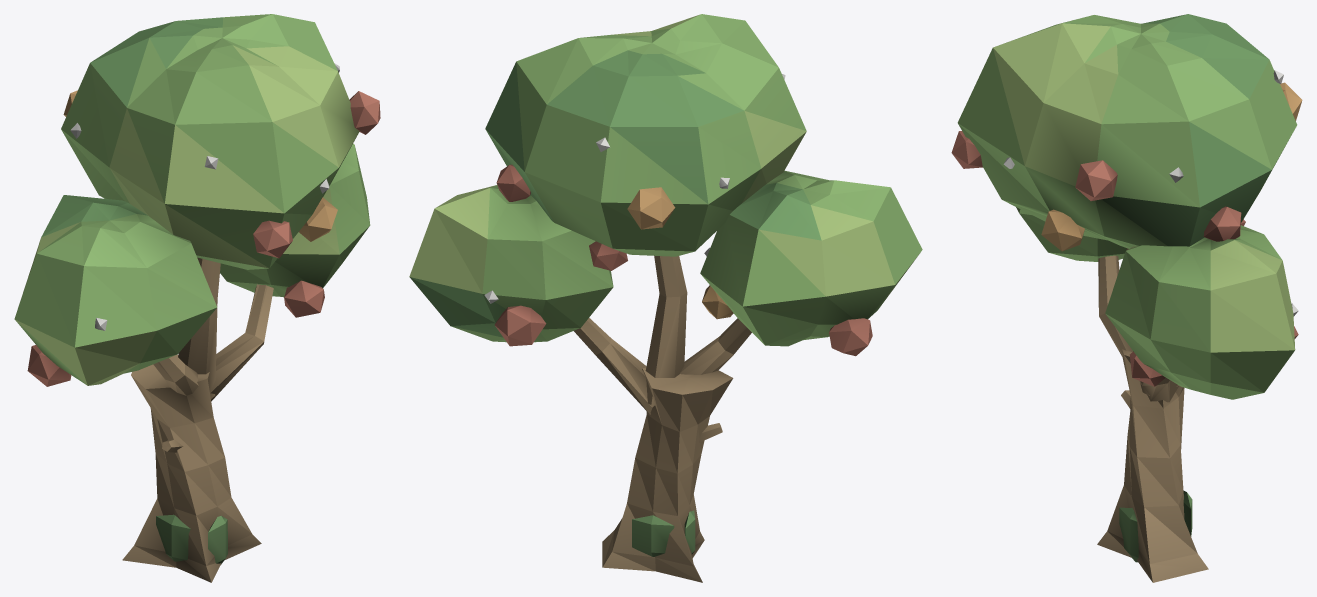
Rendered from tree.glb.
3 renders of one model, left to right at view 1: azimuth 30°, elevation 25°; view 2: azimuth 150°, elevation 25°; view 3: azimuth 270°, elevation 25°, orthographic. The views are drawn at different scales.
Visible parts, largest first — view 1: tree; view 2: tree; view 3: tree.
Boxes of the visible parts, x1=… form: tree: x1=14, y1=14, x2=380, y2=582; tree: x1=409, y1=14, x2=922, y2=582; tree: x1=951, y1=14, x2=1302, y2=582.
Bounding box in the file's own units: 4.19 × 5.2 × 3.08.
